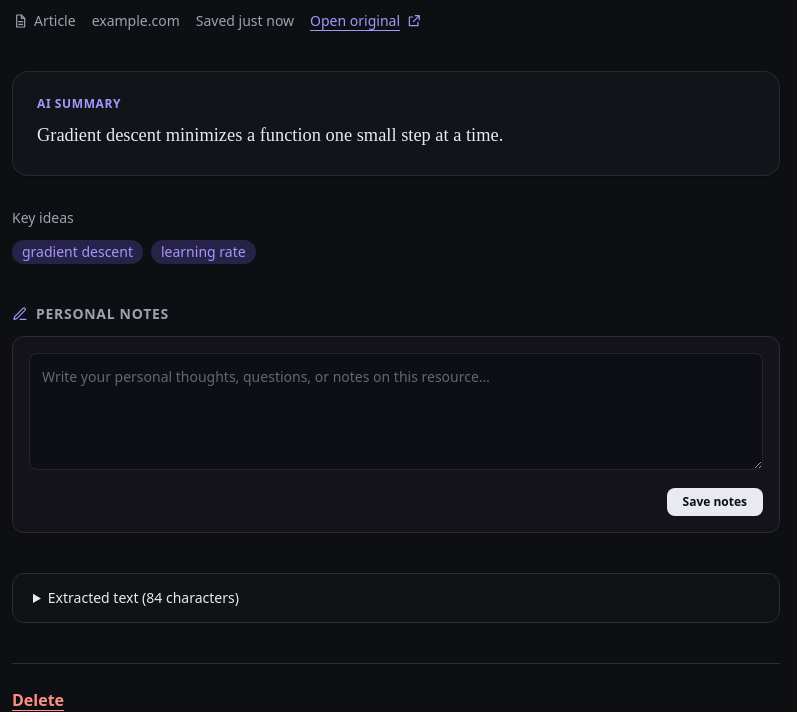
it: ItemPage › shows why a delete did not work and stays on the page
This screenshot has width=797, height=712.
(page scrolled)
Click the button "Delete".
click(38, 700)  # box [12, 688, 64, 711]
(page scrolled)
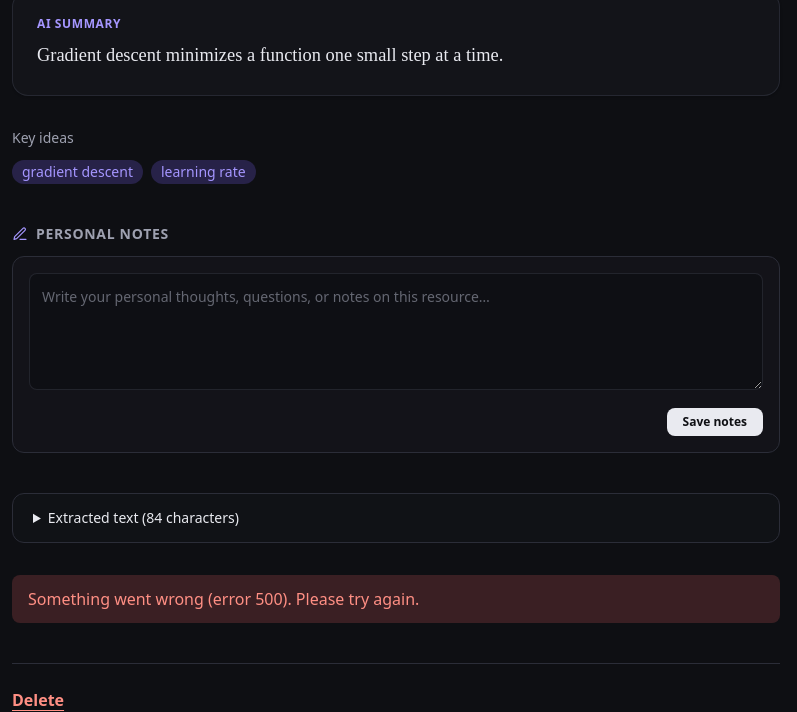
Now the message shows "error 500", box [28, 588, 419, 610]
